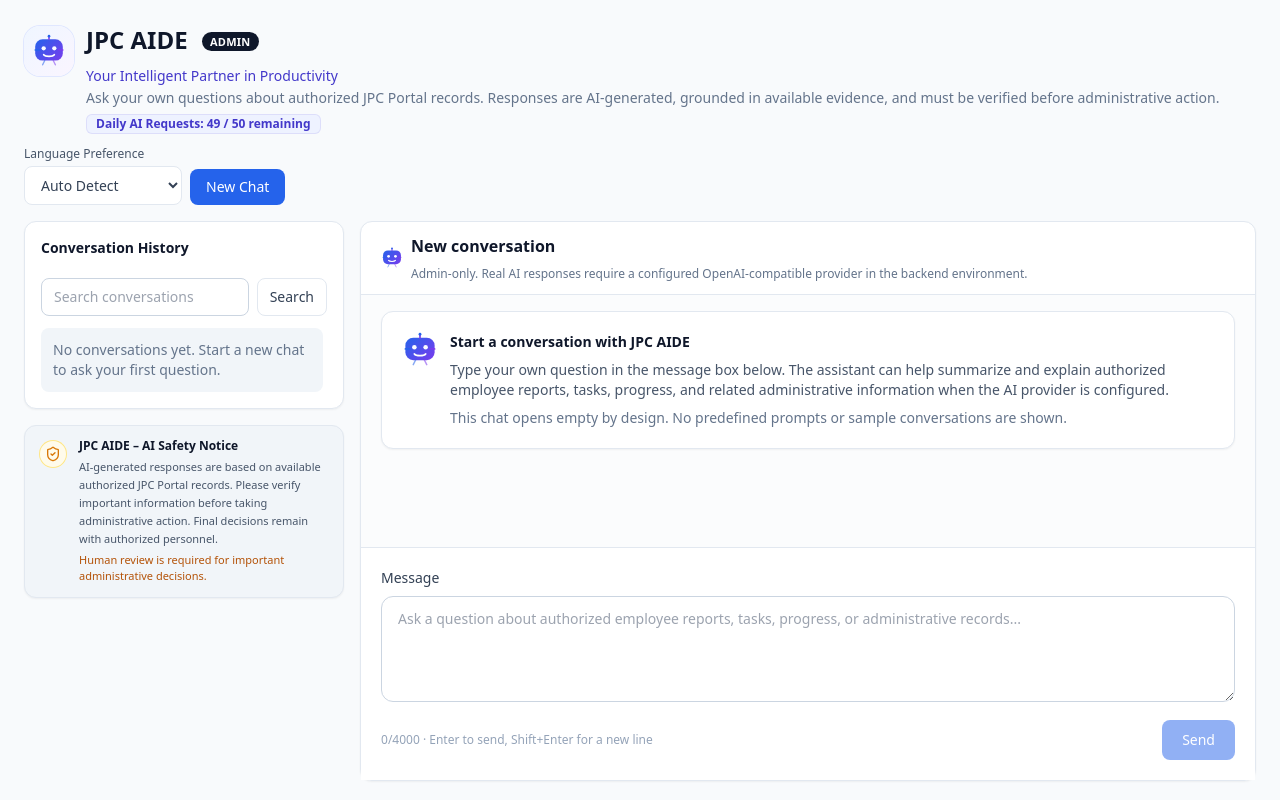
it: AdminAiAssistantPage safety notice › still sends a message and renders the assistant response
The image size is (1280, 800).
Type "Summarize this month." into the text box labelled "Message" at coordinates (808, 650), box [381, 596, 1235, 702]
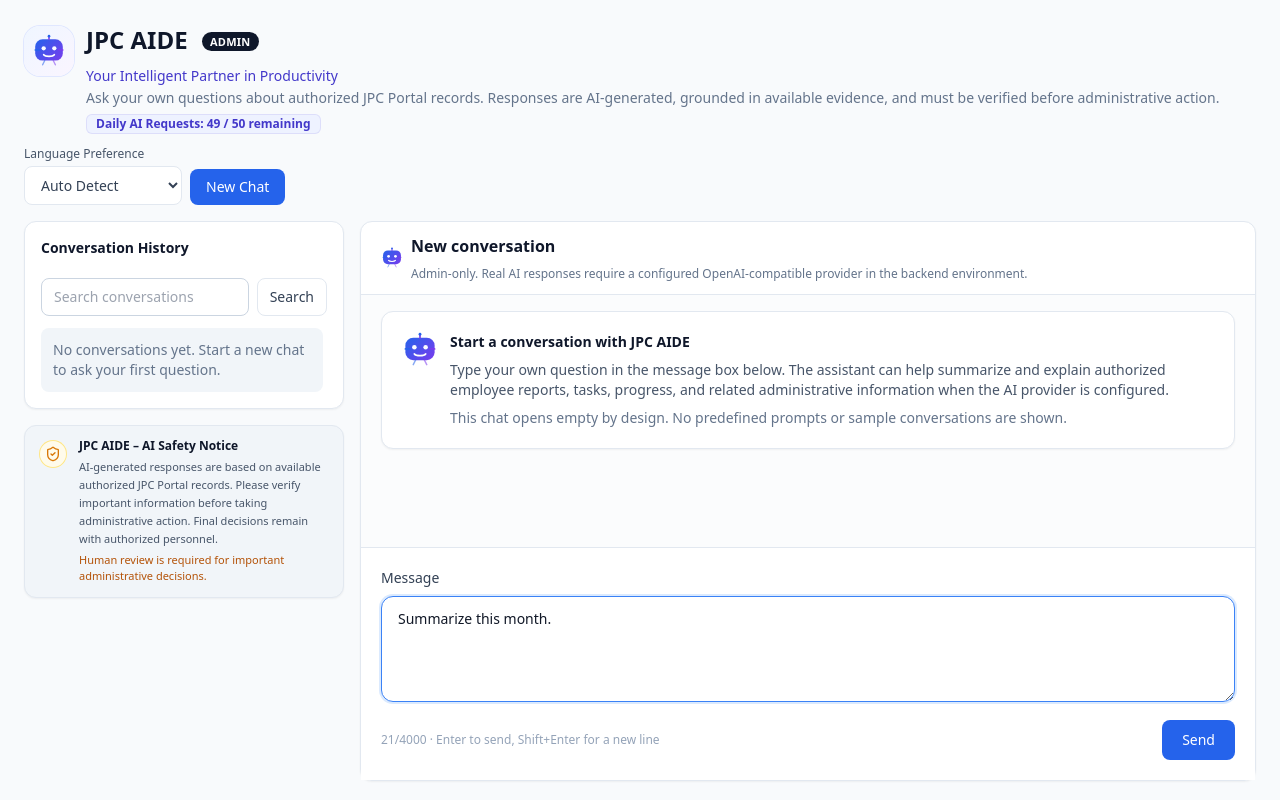
Click the button "Send" at coordinates (1199, 740), box [1162, 720, 1235, 760]
(page scrolled)
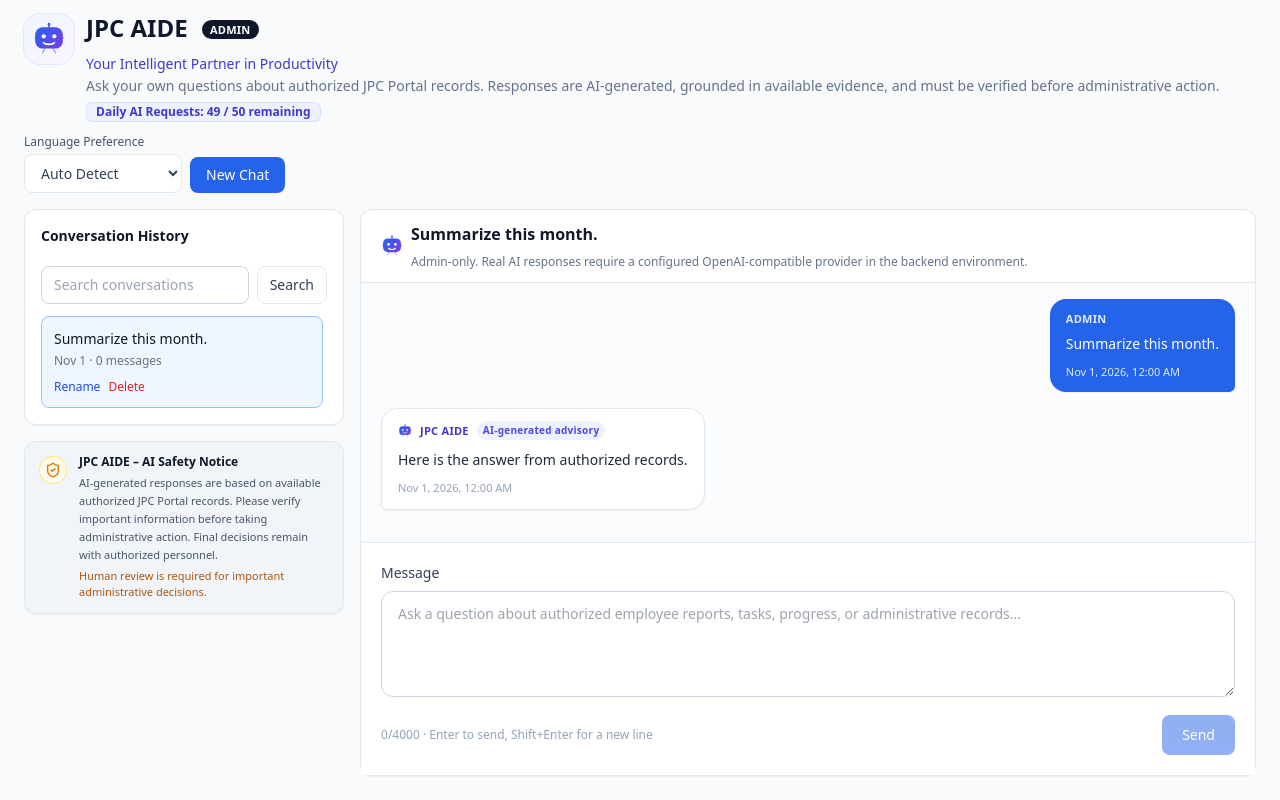
Check: the text "Here is the answer from authorized records." is shown, box [398, 448, 688, 472]
